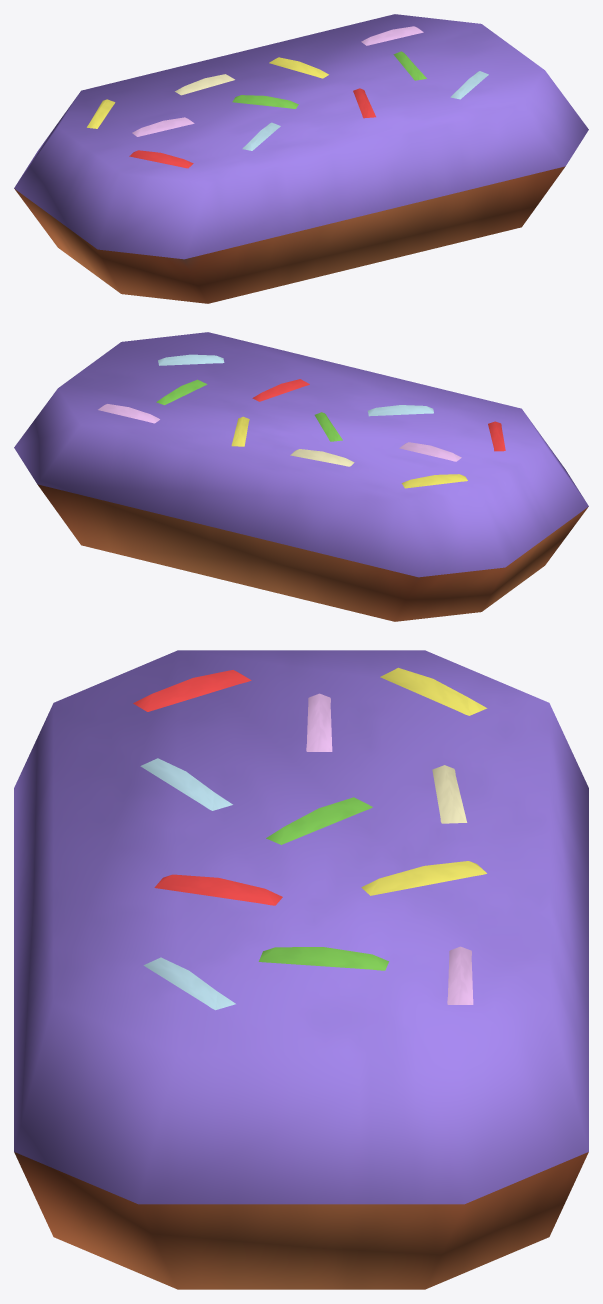
Rendered from Doughnut_Bar_E.FBX.
The picture shows the model from 3 angles, top to bottom: view 1: azimuth 30°, elevation 25°; view 2: azimuth 150°, elevation 25°; view 3: azimuth 270°, elevation 25°; orthographic projection. The views are drawn at different scales.
Visible parts, largest first — view 1: Doughnut_Bar; view 2: Doughnut_Bar; view 3: Doughnut_Bar.
Boxes of the visible parts, x1=… form: Doughnut_Bar: x1=14, y1=14, x2=588, y2=303; Doughnut_Bar: x1=14, y1=332, x2=588, y2=621; Doughnut_Bar: x1=14, y1=650, x2=588, y2=1289.
Size of the model in its own units: 75.48 by 18.74 by 39.15.
